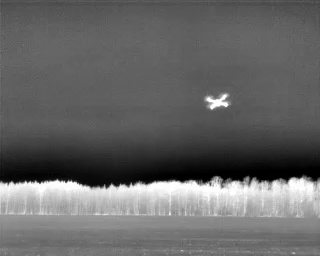DRONE: (202, 88, 234, 115)
